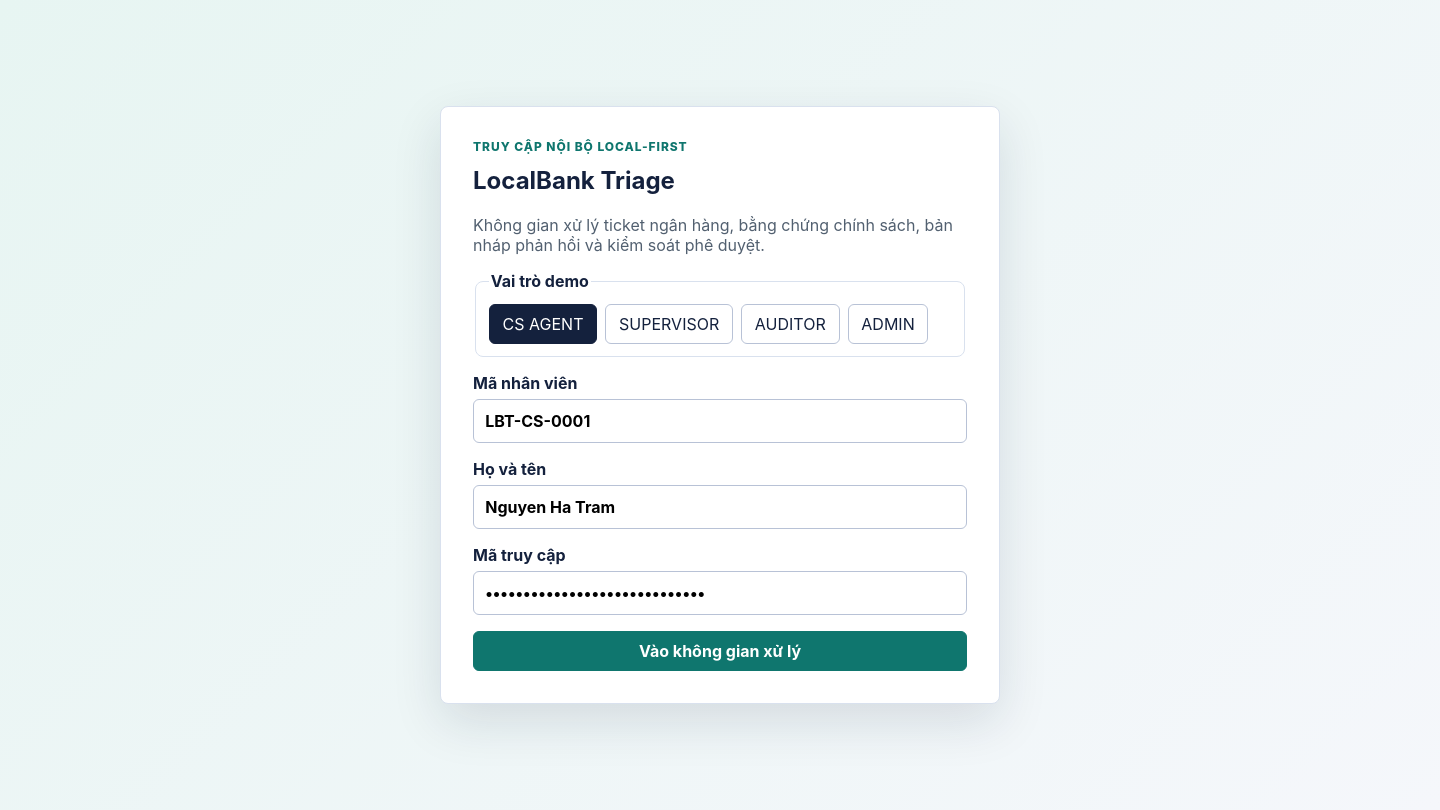
Scenario: login form › validates required staff fields in Vietnamese by default
Expected: the heading "LocalBank Triage" is shown, [473,166,675,195]
Expected: the text "Truy cập nội bộ local-first" is shown, [473,139,688,154]
Clear the field labelled "Mã nhân viên": (720, 421) [473,399,967,443]
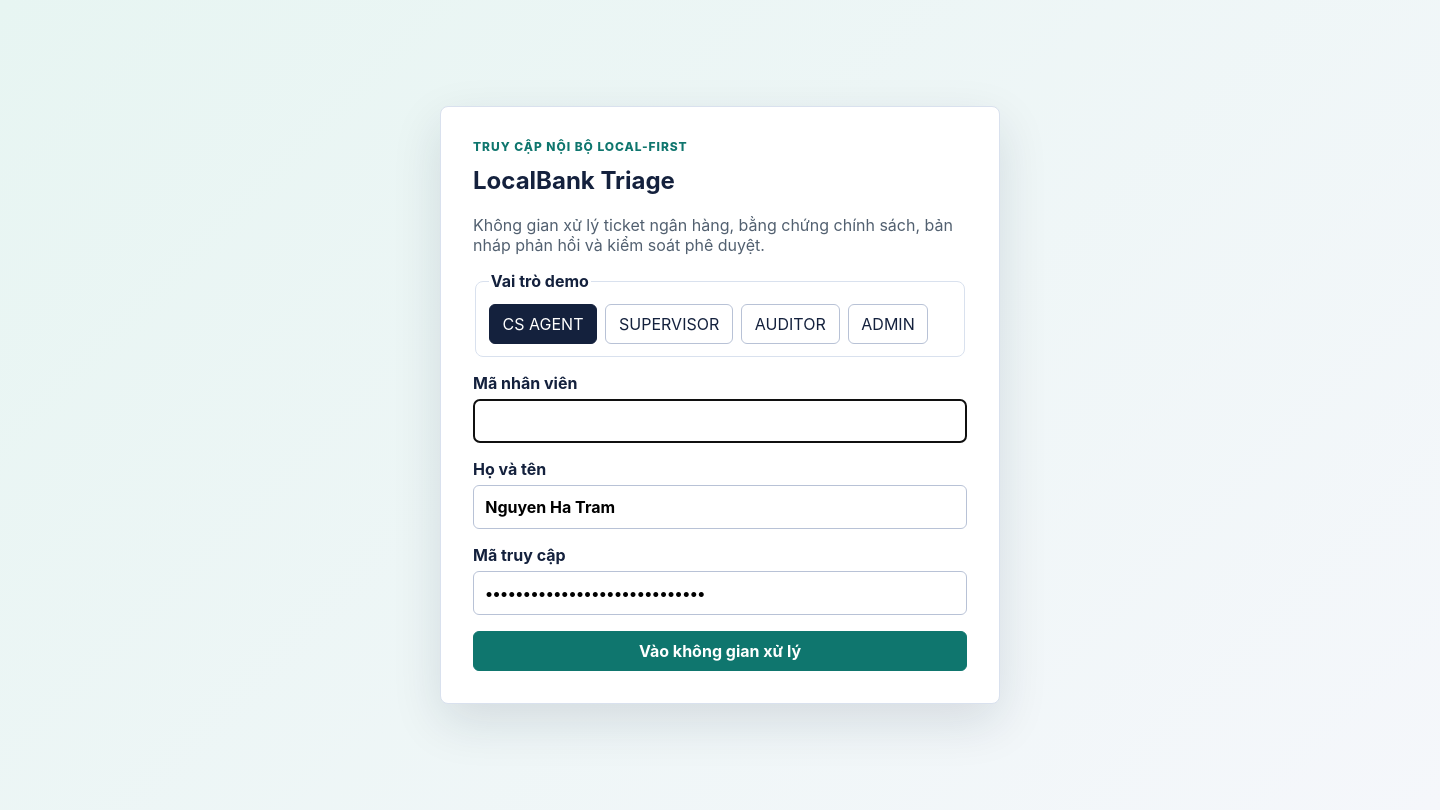
Click the button "Vào không gian xử lý": click(720, 651) [473,631,967,671]
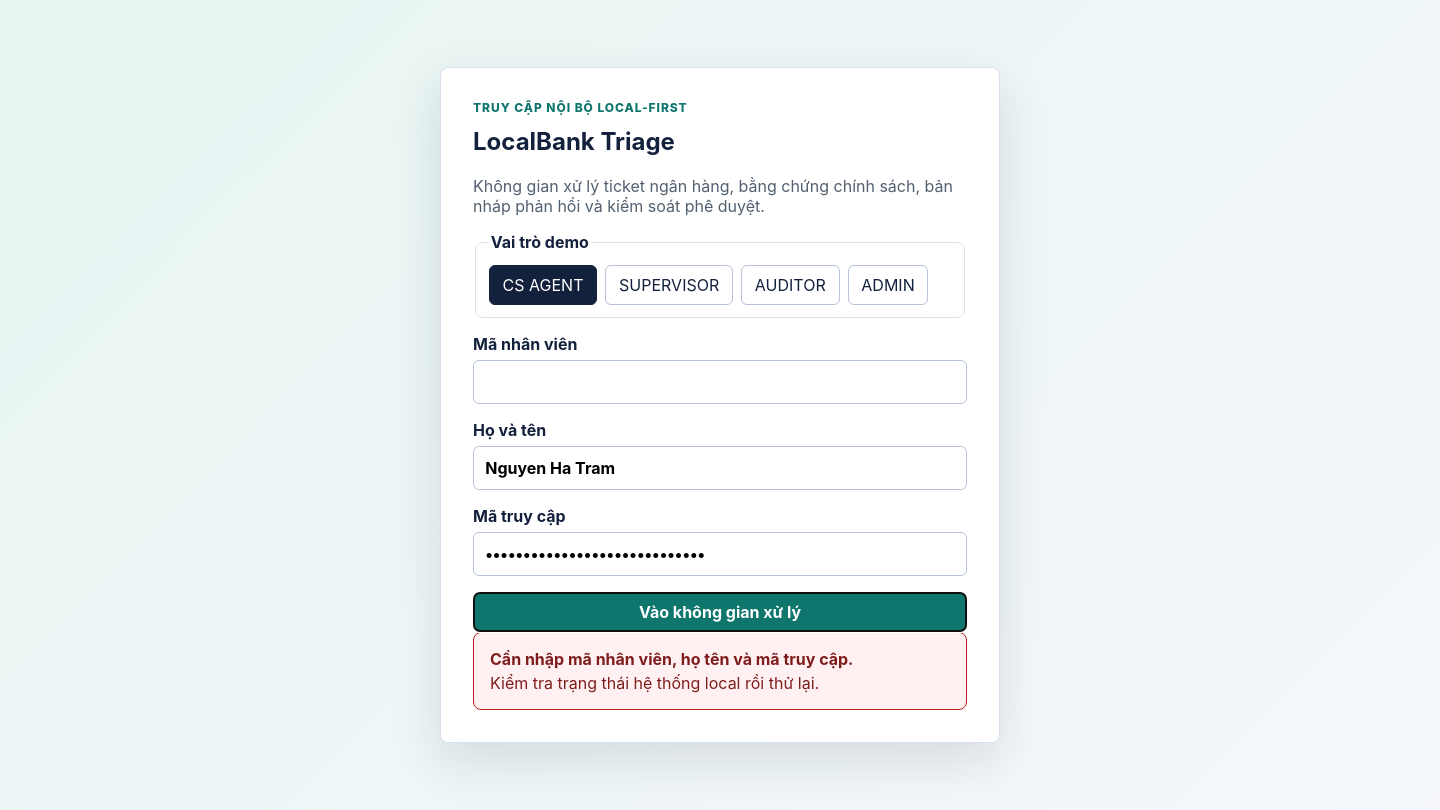
Expected: the message shows "Cần nhập mã nhân viên", [490,649,854,669]
